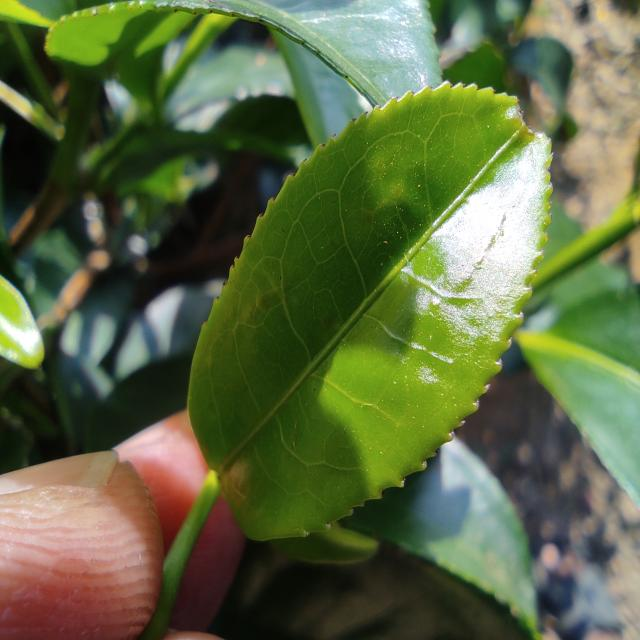Category C 4-7 days: (164, 47, 572, 560)
